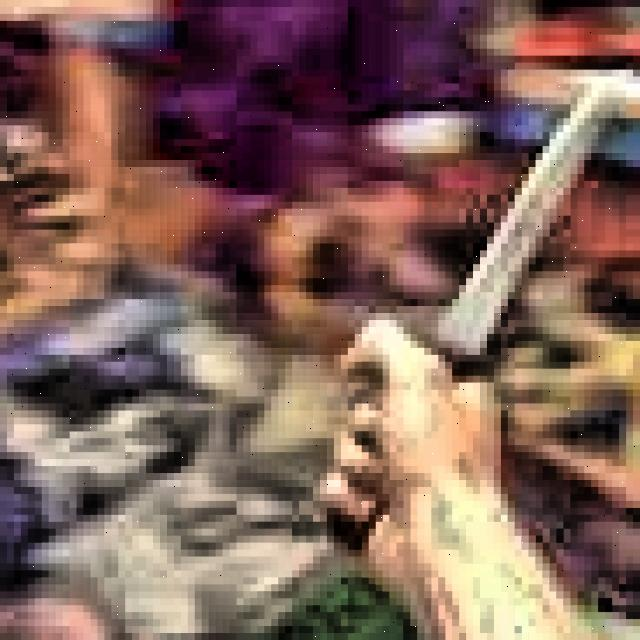knife: (335, 73, 637, 547)
